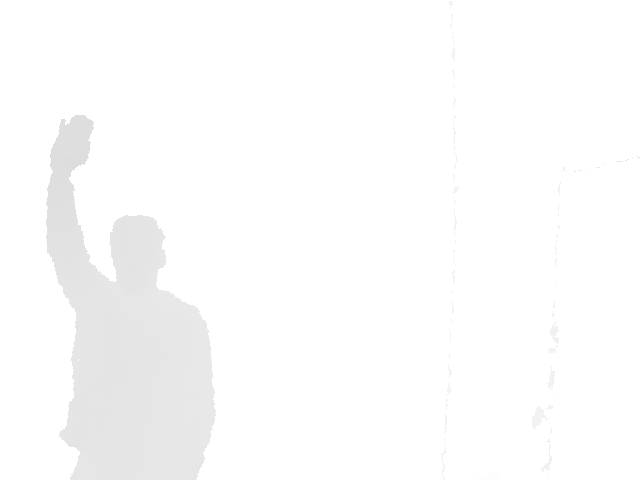hand: (49, 112, 95, 171)
head: (108, 213, 169, 298)
person: (43, 112, 217, 480)
